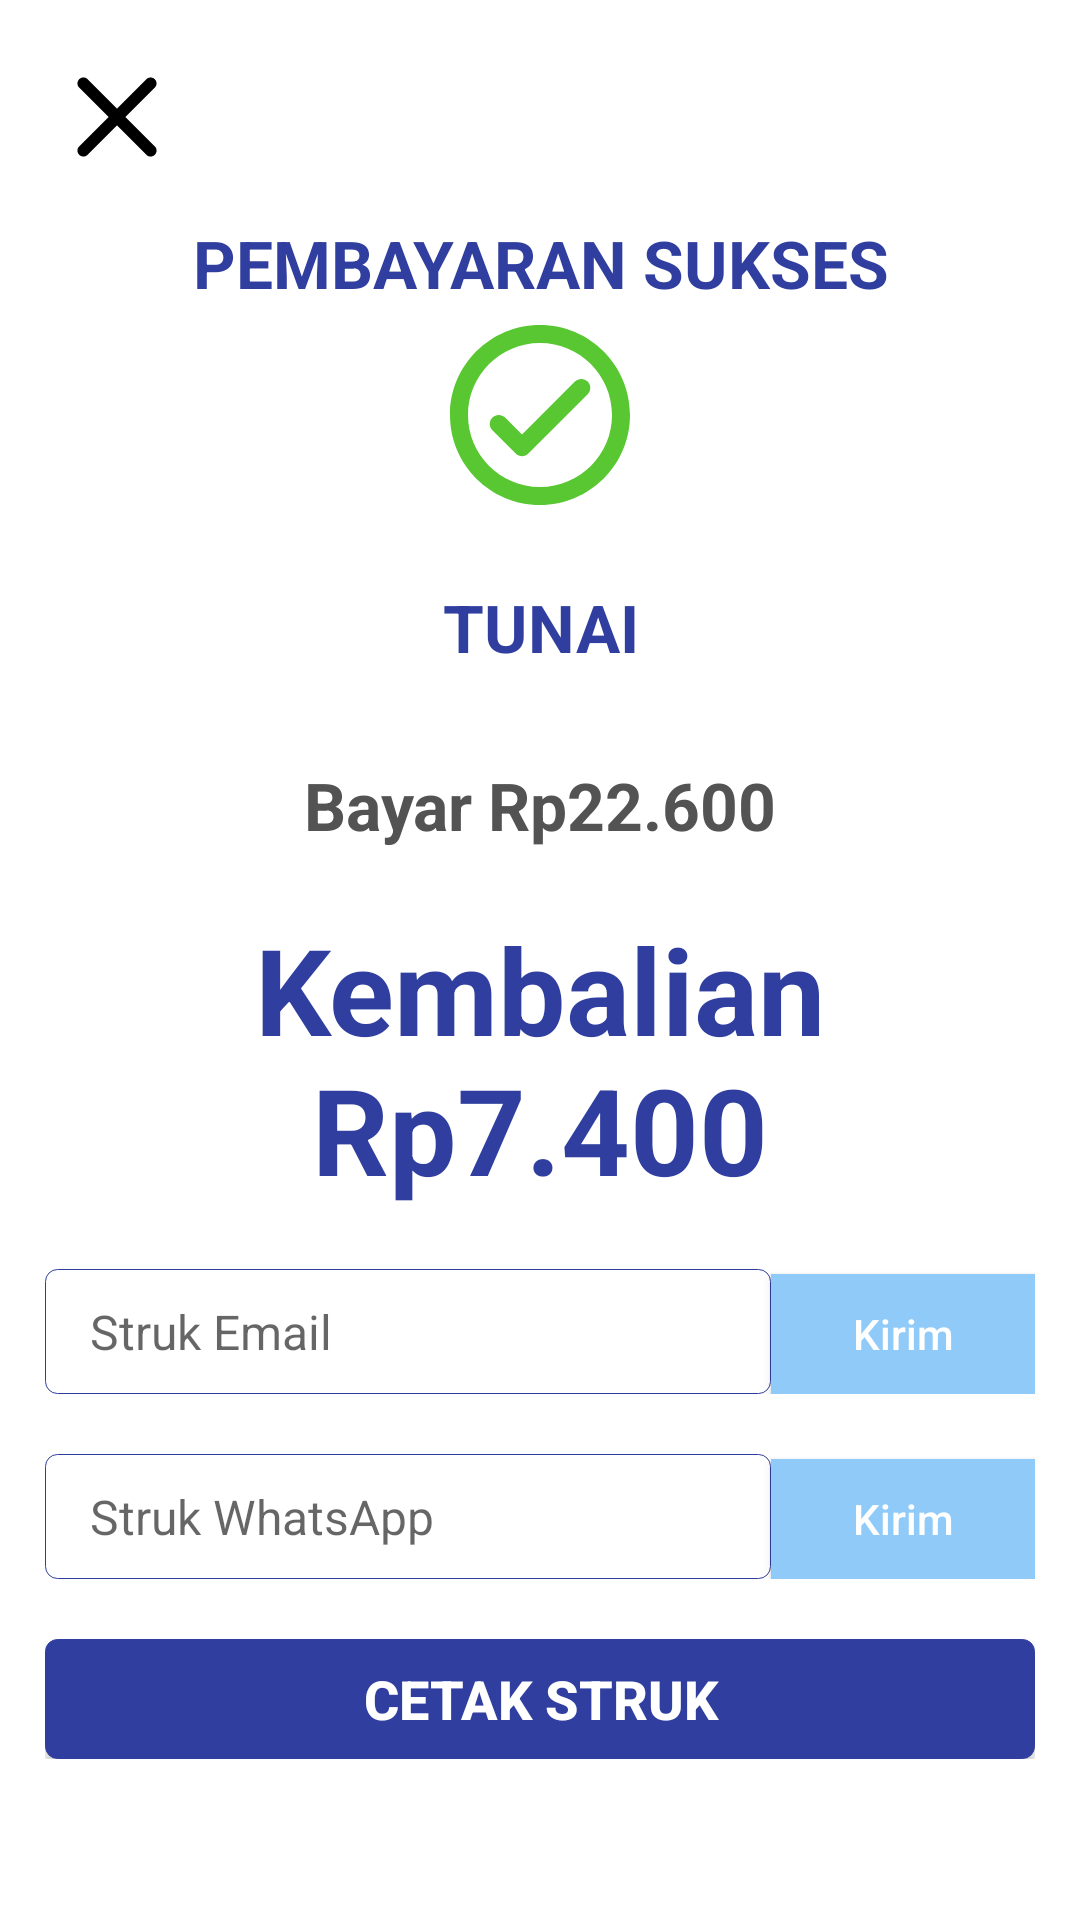

Icon bounding boxes for this 1080 x 1920 phone screenshot, format [left=x1, top=y1, right=x2, bottom=y2]:
check circle: [left=450, top=325, right=630, bottom=505]
close: [left=77, top=77, right=157, bottom=157]
